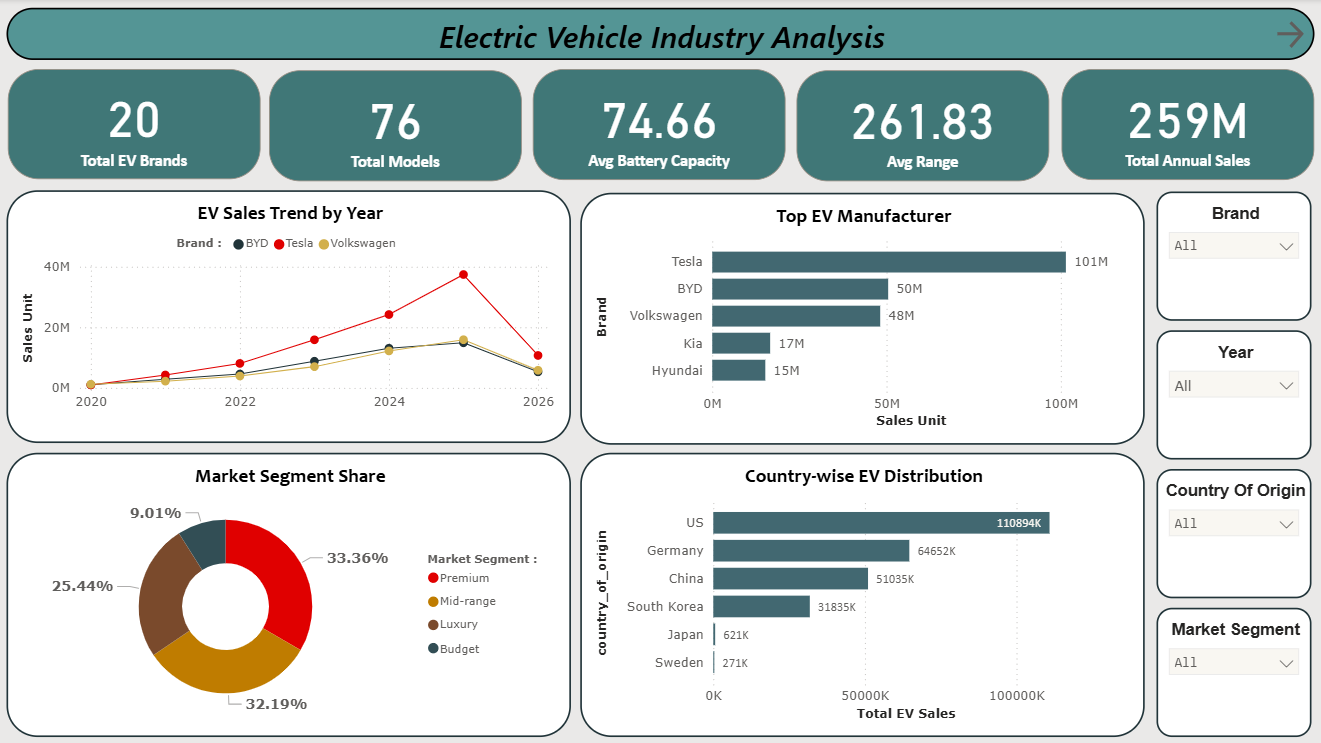

This screenshot's page, from the dashboard's own definition file:
{"tool":"powerbi","page":{"name":"Industry Overview","canvas":[1280,720],"ordinal":0},"visuals":[{"type":"card","fields":{"Values":["ev_market_2026.Total EV Sales"]},"box":[1025.5,68,244,106.9],"z":0},{"type":"card","fields":{"Values":["Count(ev_market_2026.model)"]},"box":[260,68.6,244,106.9],"z":1000},{"type":"card","fields":{"Values":["ev_market_2026.Avg EV Range"]},"box":[770,68.6,244,106.9],"z":2000},{"type":"card","fields":{"Values":["ev_market_2026.Avg Battery Capacity"]},"box":[515,68,244,106.9],"z":3000},{"type":"card","fields":{"Values":["ev_market_2026.Total Brands"]},"box":[8.2,68,244,106.5],"z":5000},{"type":"lineChart","title":"EV Sales Trend by Year","fields":{"Y":["Sum(ev_market_2026.annual_sales_units)"],"Category":["ev_market_2026.year"],"Series":["ev_market_2026.brand"]},"box":[7.2,184.6,545,243.7],"z":6000},{"type":"barChart","title":"Top EV Manufacturer","fields":{"Category":["ev_market_2026.brand"],"Y":["Sum(ev_market_2026.annual_sales_units)"]},"box":[561.2,186.6,544.8,242.9],"z":7000},{"type":"donutChart","title":"Market Segment Share","fields":{"Y":["Sum(ev_market_2026.annual_sales_units)"],"Category":["ev_market_2026.market_segment"]},"box":[6.9,437.7,544.8,274.4],"z":8000},{"type":"barChart","title":"Country-wise EV Distribution","fields":{"Category":["ev_market_2026.country_of_origin"],"Y":["ev_market_2026.Total EV Sales"]},"box":[561.2,437.7,544.8,274.4],"z":9000},{"type":"slicer","title":"Year","fields":{"Values":["ev_market_2026.year"]},"box":[1117,320,149.6,124.9],"z":10000},{"type":"slicer","title":"Brand","fields":{"Values":["ev_market_2026.brand"]},"box":[1117,185.2,149.6,124.9],"z":11000},{"type":"slicer","title":"Market Segment","fields":{"Values":["ev_market_2026.market_segment"]},"box":[1117,587.3,149.6,124.9],"z":12000},{"type":"slicer","title":"Country Of Origin","fields":{"Values":["ev_market_2026.country_of_origin"]},"box":[1117,454,149.6,124.9],"z":13000},{"type":"textbox","title":"Electric Vehicle Industry Analysis","box":[6.9,8.2,1262.4,50.8],"z":14000},{"type":"actionButton","box":[1228,17,39,35],"z":15000}]}

Visuals, with their boxes in screenshot pixels (x1, y1, x2, y2), scaled from the page's 1280x720 canvas onto the 1321x743 screenshot:
card - ev_market_2026.Total EV Sales: (1058, 70, 1310, 180)
card - Count(ev_market_2026.model): (268, 71, 520, 181)
card - ev_market_2026.Avg EV Range: (795, 71, 1046, 181)
card - ev_market_2026.Avg Battery Capacity: (531, 70, 783, 180)
card - ev_market_2026.Total Brands: (8, 70, 260, 180)
"EV Sales Trend by Year" lineChart: (7, 190, 570, 442)
"Top EV Manufacturer" barChart: (579, 193, 1141, 443)
"Market Segment Share" donutChart: (7, 452, 569, 735)
"Country-wise EV Distribution" barChart: (579, 452, 1141, 735)
"Year" slicer: (1153, 330, 1307, 459)
"Brand" slicer: (1153, 191, 1307, 320)
"Market Segment" slicer: (1153, 606, 1307, 735)
"Country Of Origin" slicer: (1153, 469, 1307, 597)
"Electric Vehicle Industry Analysis" textbox: (7, 8, 1310, 61)
actionButton: (1267, 18, 1308, 54)
